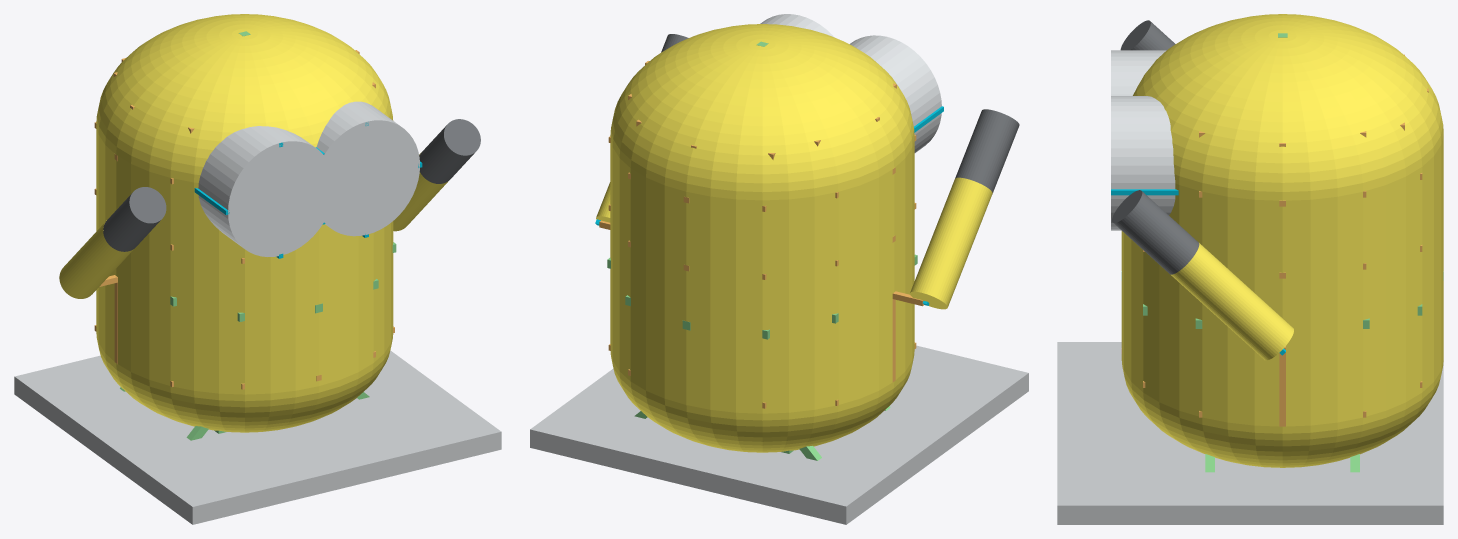
File: minion_ver2.glb
The picture shows the model from 3 angles, left to right: view 1: azimuth 30°, elevation 25°; view 2: azimuth 150°, elevation 25°; view 3: azimuth 270°, elevation 25°; orthographic projection. The views are drawn at different scales.
Parts seen in each view (by area): view 1: obj_7, obj_0, obj_56, obj_38, obj_37, obj_6, obj_75, obj_53; view 2: obj_7, obj_56, obj_0, obj_6, obj_75, obj_38, obj_37, obj_53; view 3: obj_7, obj_56, obj_0, obj_6, obj_53, obj_37, obj_38, obj_75, obj_59.
Boxes of the visible parts, x1,y1,x2,y2 form: obj_7: (96, 125, 393, 394); obj_0: (14, 350, 501, 524); obj_56: (96, 14, 393, 182); obj_38: (198, 126, 333, 256); obj_37: (314, 101, 419, 236); obj_6: (96, 333, 393, 432); obj_75: (59, 187, 166, 298); obj_53: (393, 119, 480, 231); obj_7: (610, 137, 914, 413); obj_56: (610, 24, 914, 200); obj_0: (530, 345, 1028, 524); obj_6: (610, 350, 914, 452); obj_75: (910, 109, 1019, 309); obj_38: (850, 35, 941, 152); obj_37: (760, 14, 833, 36); obj_53: (596, 34, 688, 222); obj_7: (1121, 134, 1443, 426); obj_56: (1133, 14, 1443, 200); obj_0: (1057, 342, 1443, 524); obj_6: (1121, 360, 1443, 467); obj_53: (1112, 190, 1293, 360); obj_37: (1111, 96, 1175, 230); obj_38: (1111, 50, 1166, 95); obj_75: (1120, 20, 1175, 50); obj_59: (1279, 353, 1285, 420).
Size of the model in its own units: 201 by 211 by 180.
